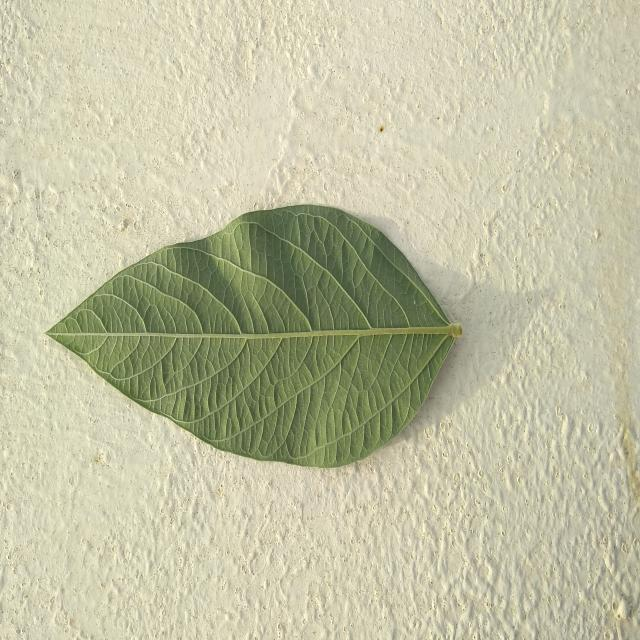pea: (48, 204, 462, 467)
